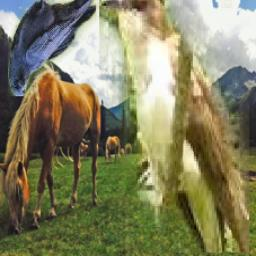Crow: (9, 0, 100, 97)
Cuckoo: (100, 0, 250, 253)
